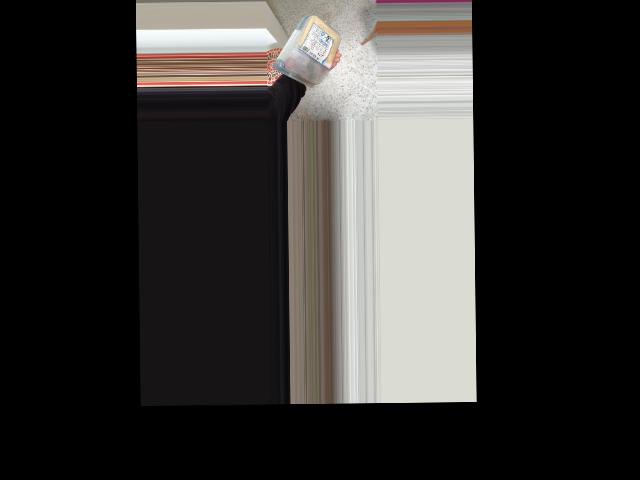cheese: (277, 10, 341, 87)
